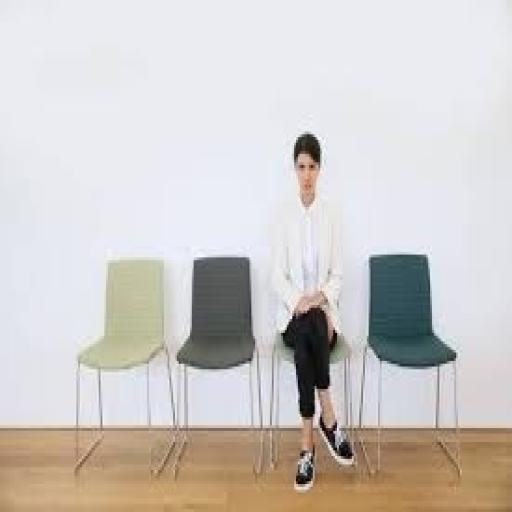sitting: (266, 129, 358, 492)
